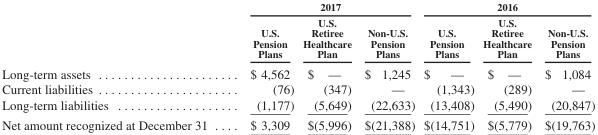table: (1, 0, 594, 132)
table column: (1, 0, 228, 132), (228, 0, 297, 132), (357, 0, 418, 132), (297, 0, 357, 132), (418, 0, 478, 132), (478, 0, 537, 132), (537, 0, 594, 132)
table column header: (1, 0, 594, 62)
table row: (1, 14, 594, 62), (1, 62, 594, 80), (1, 96, 594, 114), (1, 114, 594, 132), (1, 80, 594, 96), (1, 0, 594, 14)
table spanning cell: (228, 0, 418, 14), (418, 0, 594, 14)
